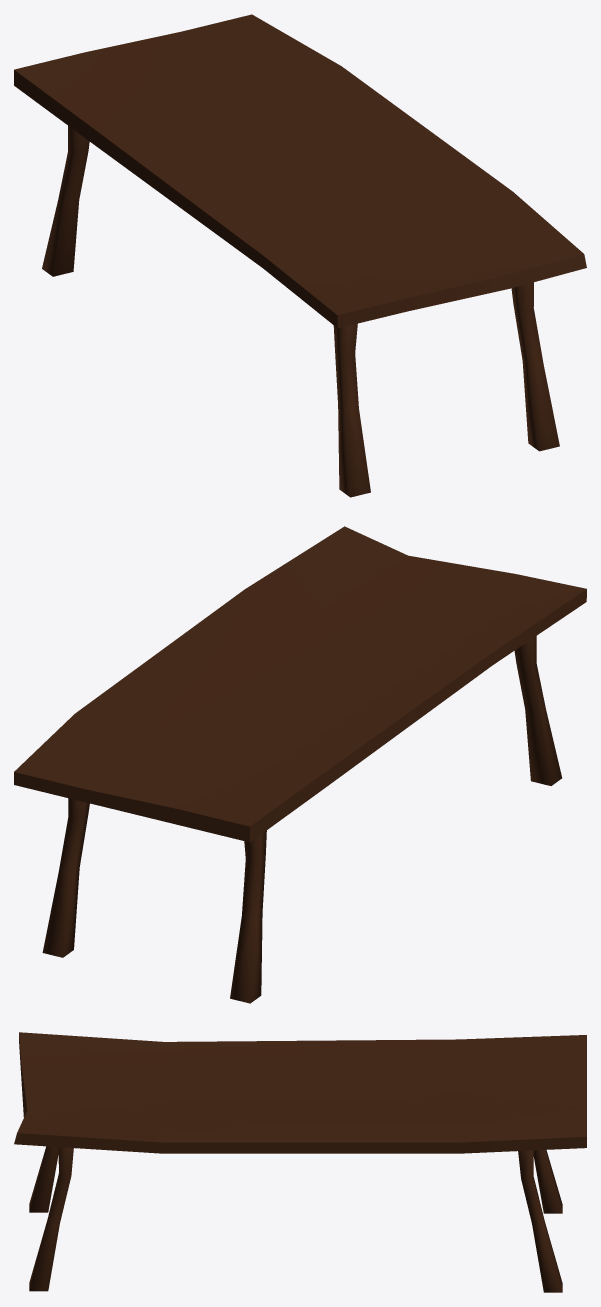
File: SM_Table_01.fbx
3 renders of one model, top to bottom at view 1: azimuth 30°, elevation 25°; view 2: azimuth 150°, elevation 25°; view 3: azimuth 270°, elevation 25°, orthographic. The views are drawn at different scales.
Parts seen in each view (by area): view 1: table; view 2: table; view 3: table.
Part boxes in pixels (bbox=[...]): table: bbox=[14, 14, 586, 497]; table: bbox=[14, 526, 586, 1003]; table: bbox=[14, 1032, 586, 1292].
Bounding box in the file's own units: 127 × 282 × 89.98.
